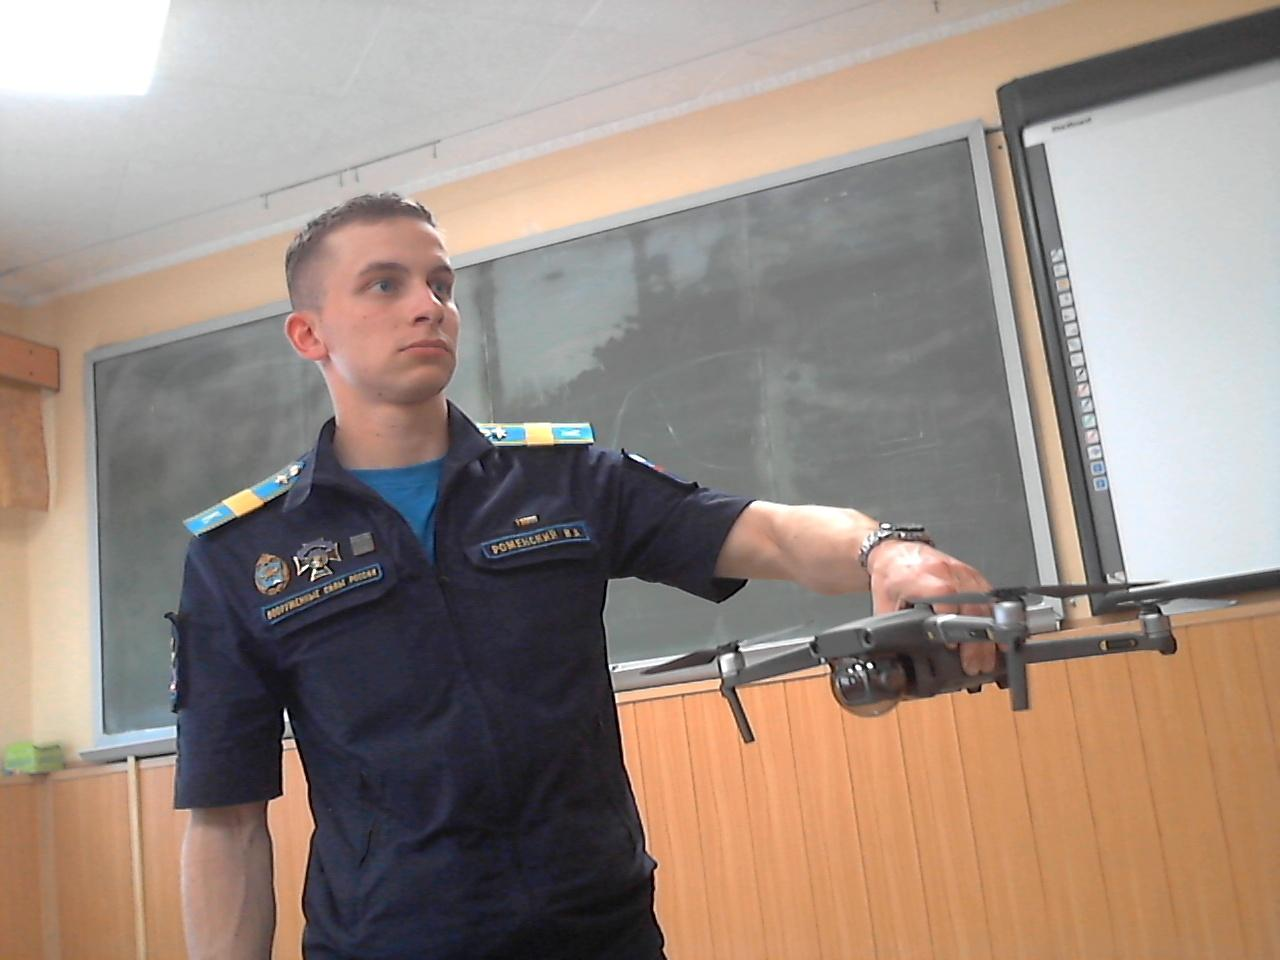drone: (592, 560, 1280, 750)
